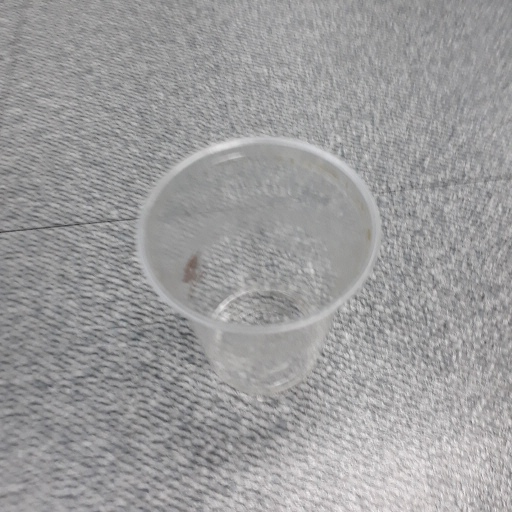Plastic_2: (130, 137, 385, 397)
